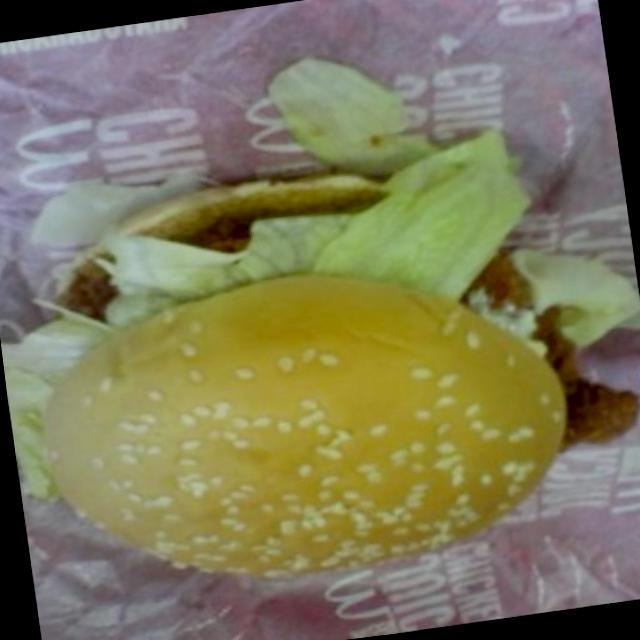Hamburger: (24, 147, 584, 606)
